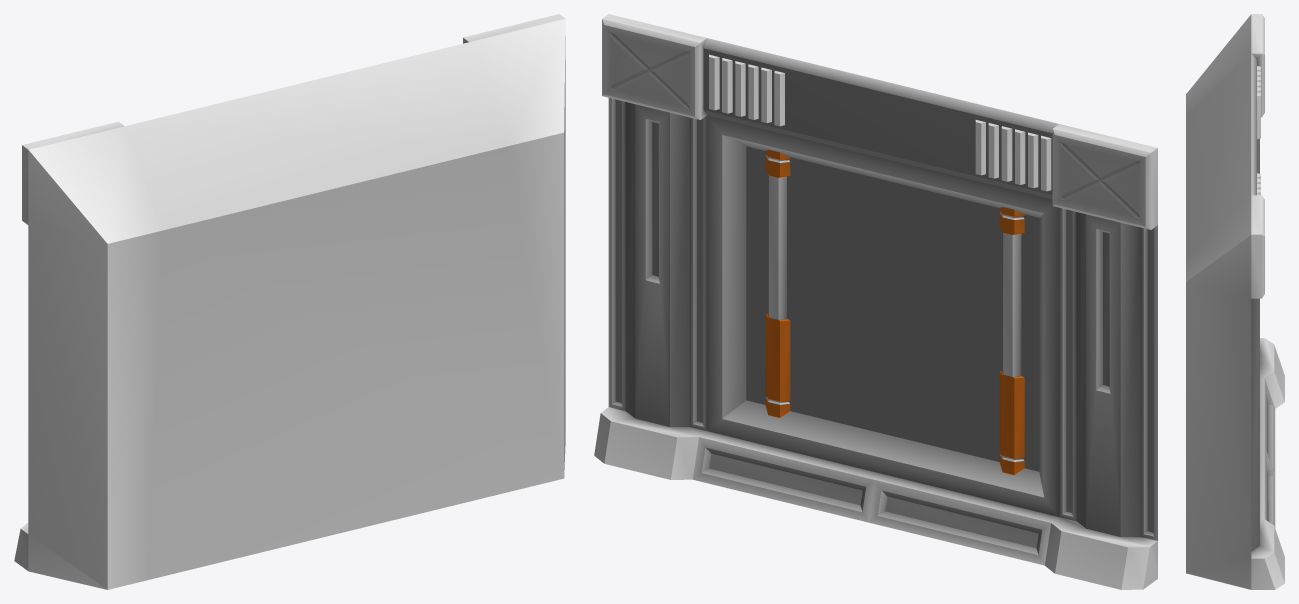
The model's file is wallRamp_straight.FBX.
The picture shows the model from 3 angles, left to right: view 1: azimuth 30°, elevation 25°; view 2: azimuth 150°, elevation 25°; view 3: azimuth 270°, elevation 25°; orthographic projection. The views are drawn at different scales.
Parts seen in each view (by area): view 1: wallRamp_straight; view 2: wallRamp_straight; view 3: wallRamp_straight.
Boxes of the visible parts, left/top/right/bottom form: wallRamp_straight: left=14, top=14, right=565, bottom=589; wallRamp_straight: left=594, top=14, right=1157, bottom=589; wallRamp_straight: left=1186, top=14, right=1284, bottom=589.
Size of the model in its own units: 2 by 1.5 by 0.3784.
